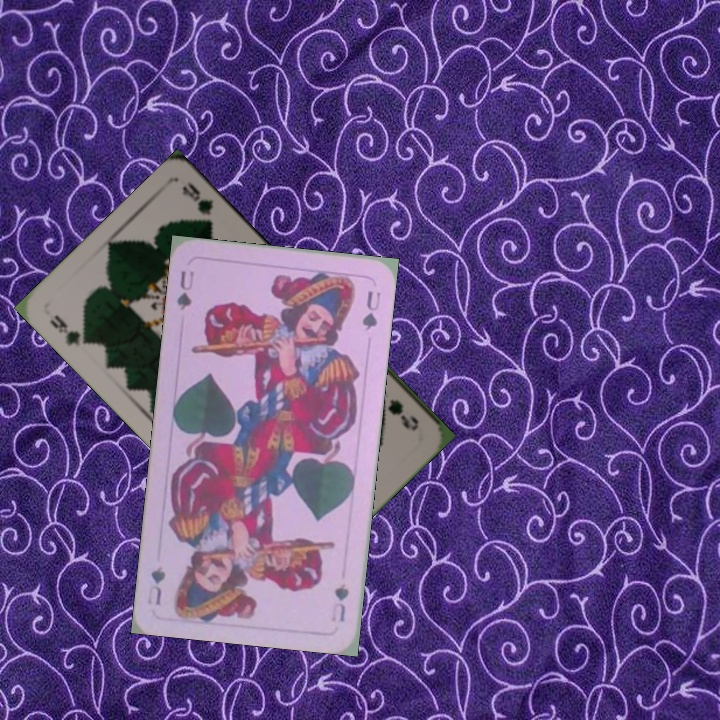G9: (45, 310, 95, 349), (373, 395, 422, 434)
GU: (173, 267, 197, 313), (327, 579, 351, 625)
